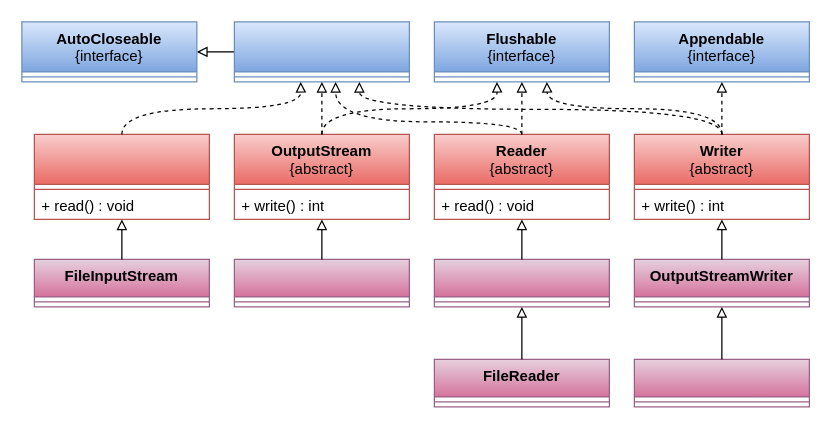
This 831x429 diagram has some shape labels left out. Here are the shapes that lost their labels. From the top down, the box of each, then its label:
(233, 21, 409, 82): Closeable {interface}
(33, 133, 209, 219): InputStream {abstract}
(233, 258, 409, 307): FileOutputStream
(433, 258, 609, 307): InputStreamReader
(633, 358, 809, 407): FileWriter
